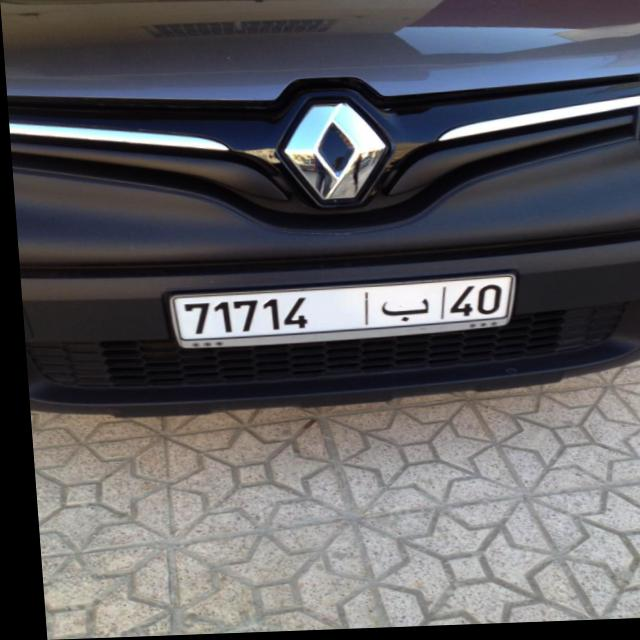License-Plate: (164, 278, 510, 349)
